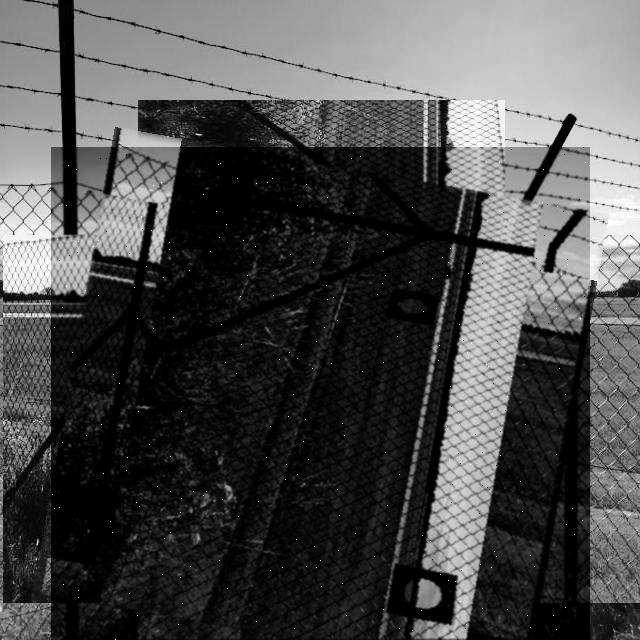fences: (51, 147, 590, 640)
